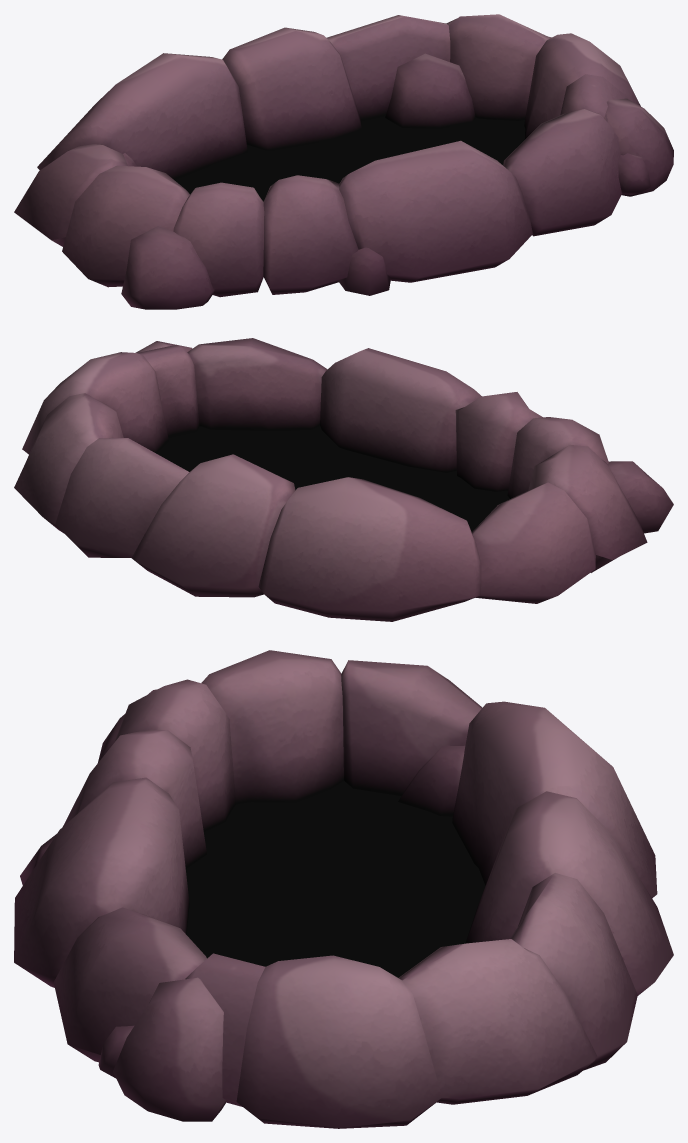
The model's file is pit.gltf.
3 views of the same model, one above another, from view 1: azimuth 30°, elevation 25°; view 2: azimuth 150°, elevation 25°; view 3: azimuth 270°, elevation 25° (orthographic). The views are drawn at different scales.
Visible parts, largest first — view 1: pit_GEO_low:PIV; view 2: pit_GEO_low:PIV; view 3: pit_GEO_low:PIV.
Boxes of the visible parts, x1,y1,x2,y2 form: pit_GEO_low:PIV: (14, 14, 673, 309); pit_GEO_low:PIV: (14, 338, 673, 621); pit_GEO_low:PIV: (14, 650, 673, 1128).
Bounding box in the file's own units: 697 × 140 × 485.
1 material, 1 textured.
